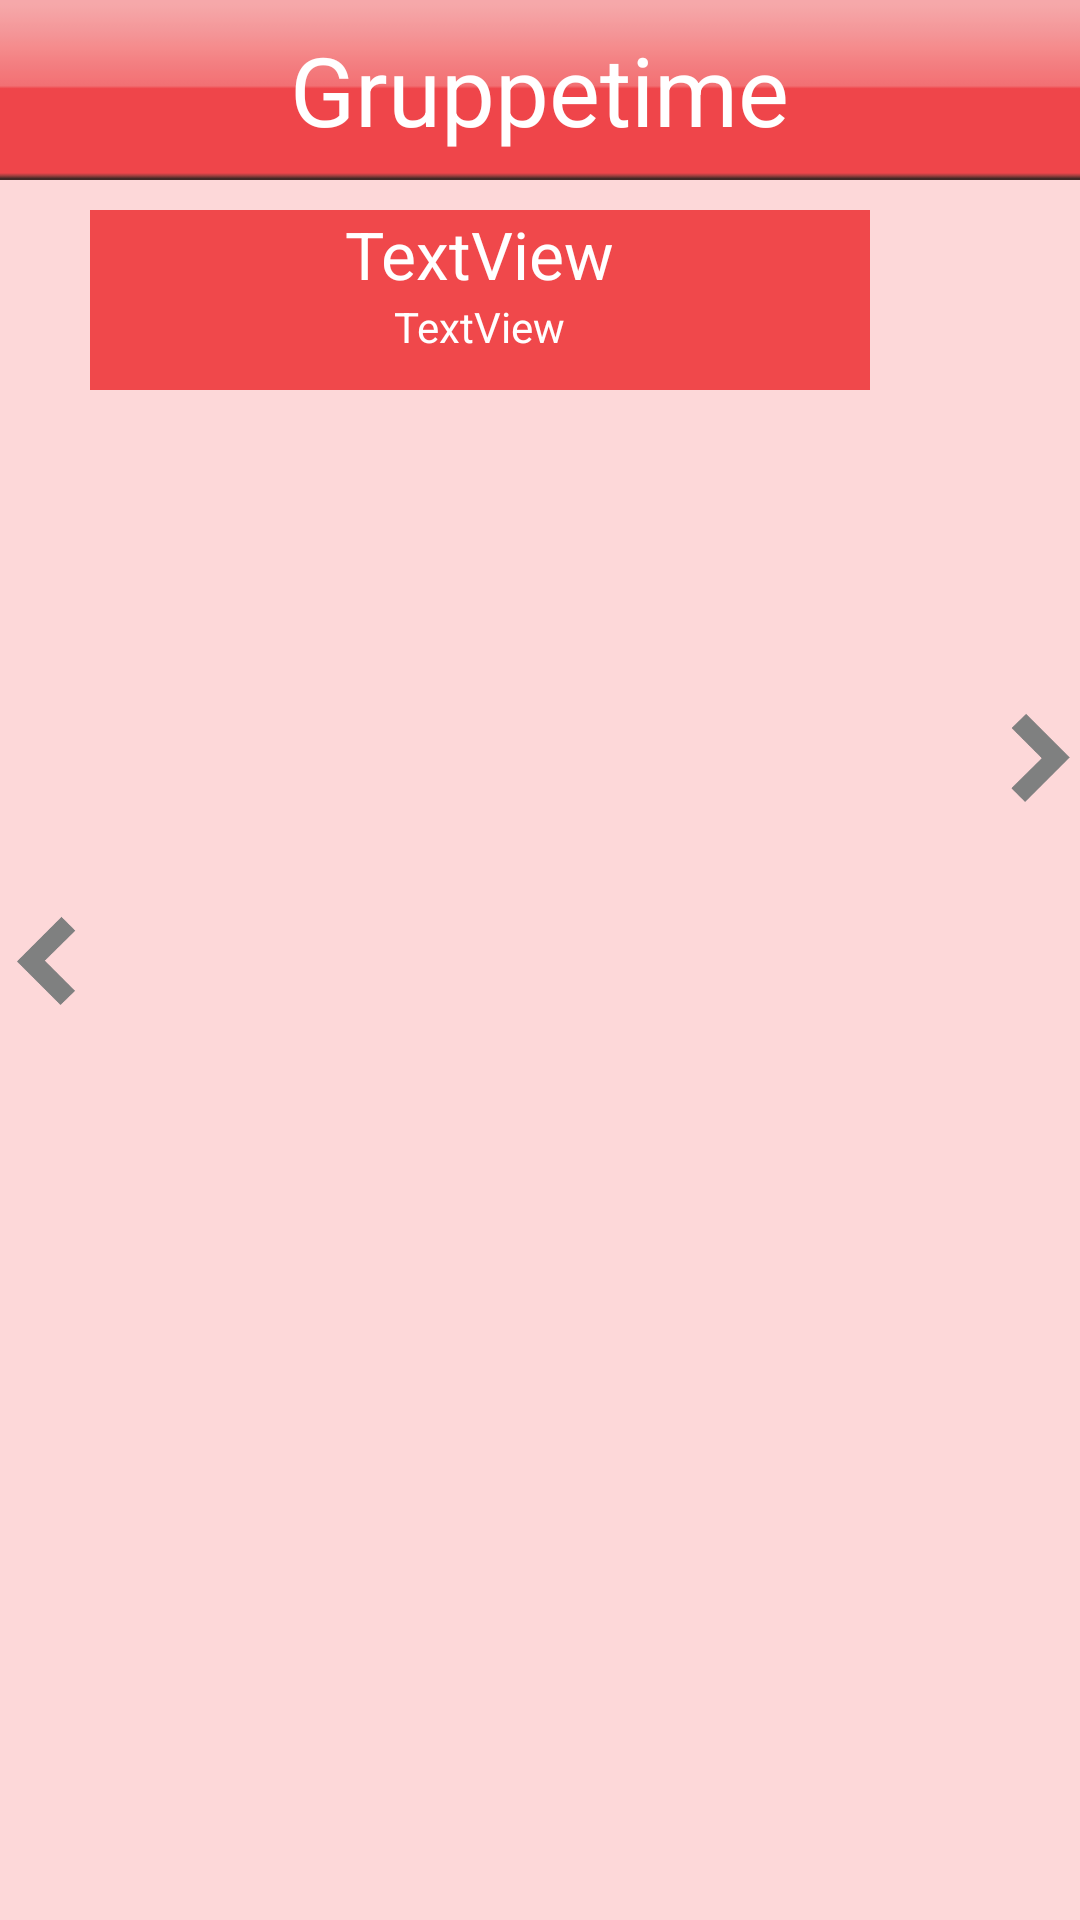

Screen size 1080w x 1920h. Icon name, then its box in pixels as [x1=x1, y1=y1, x2=x2, y2=y2]:
arrow left: [x1=17, y1=917, x2=75, y2=1005]
arrow right: [x1=1011, y1=714, x2=1070, y2=802]
